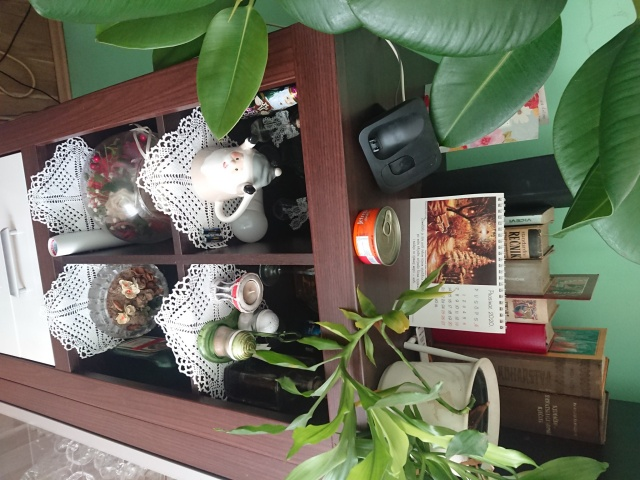Gavrilovic Pork Liver Pate 100g: (350, 203, 403, 268)
